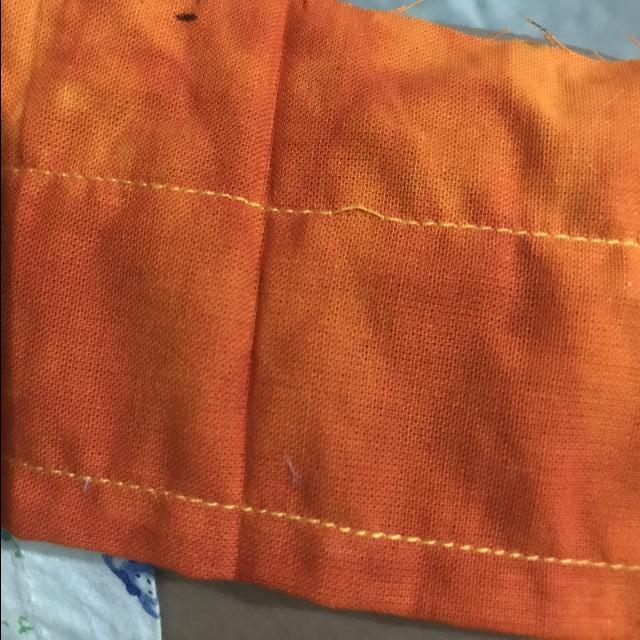Skip: (315, 200, 410, 244)
